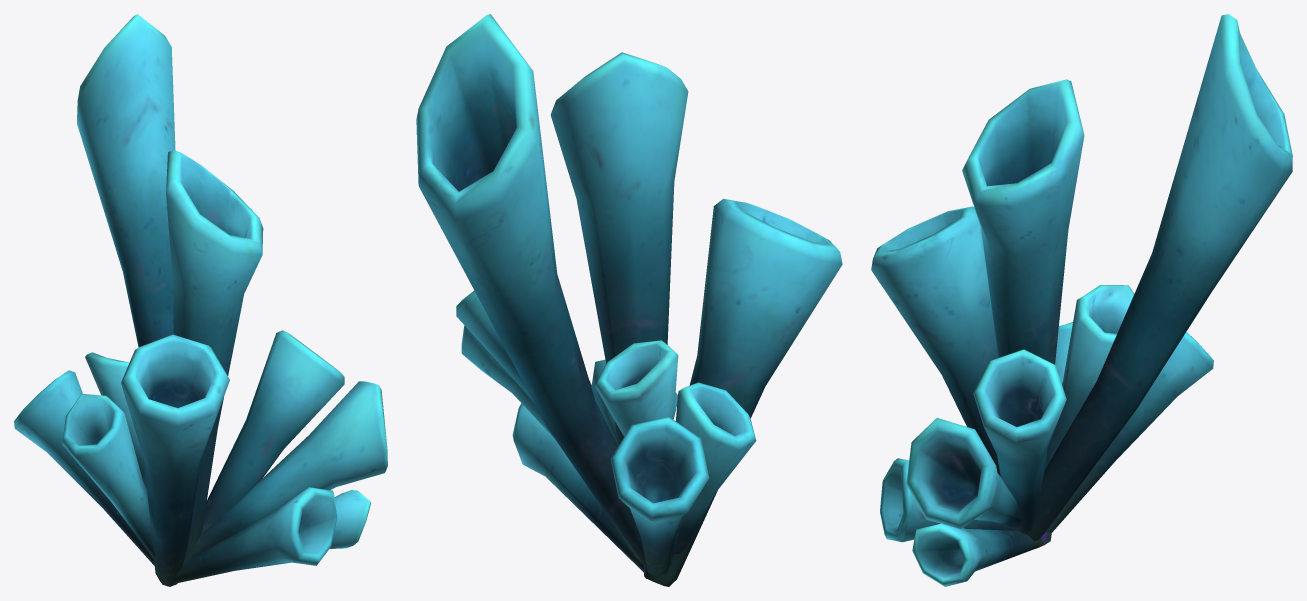
Rendered from Sce_Aquarium_Hawaii01_SeaAnemone09_b.FBX.
The picture shows the model from 3 angles, left to right: view 1: azimuth 30°, elevation 25°; view 2: azimuth 150°, elevation 25°; view 3: azimuth 270°, elevation 25°; orthographic projection. The views are drawn at different scales.
Parts seen in each view (by area): view 1: Sce_Aquarium_Hawaii01_SeaAnemone09_b; view 2: Sce_Aquarium_Hawaii01_SeaAnemone09_b; view 3: Sce_Aquarium_Hawaii01_SeaAnemone09_b.
Boxes of the visible parts, left/top/right/bottom form: Sce_Aquarium_Hawaii01_SeaAnemone09_b: left=14, top=14, right=387, bottom=586; Sce_Aquarium_Hawaii01_SeaAnemone09_b: left=416, top=14, right=842, bottom=586; Sce_Aquarium_Hawaii01_SeaAnemone09_b: left=871, top=14, right=1292, bottom=586.
Size of the model in its own units: 0.4381 by 0.7623 by 0.5172.
